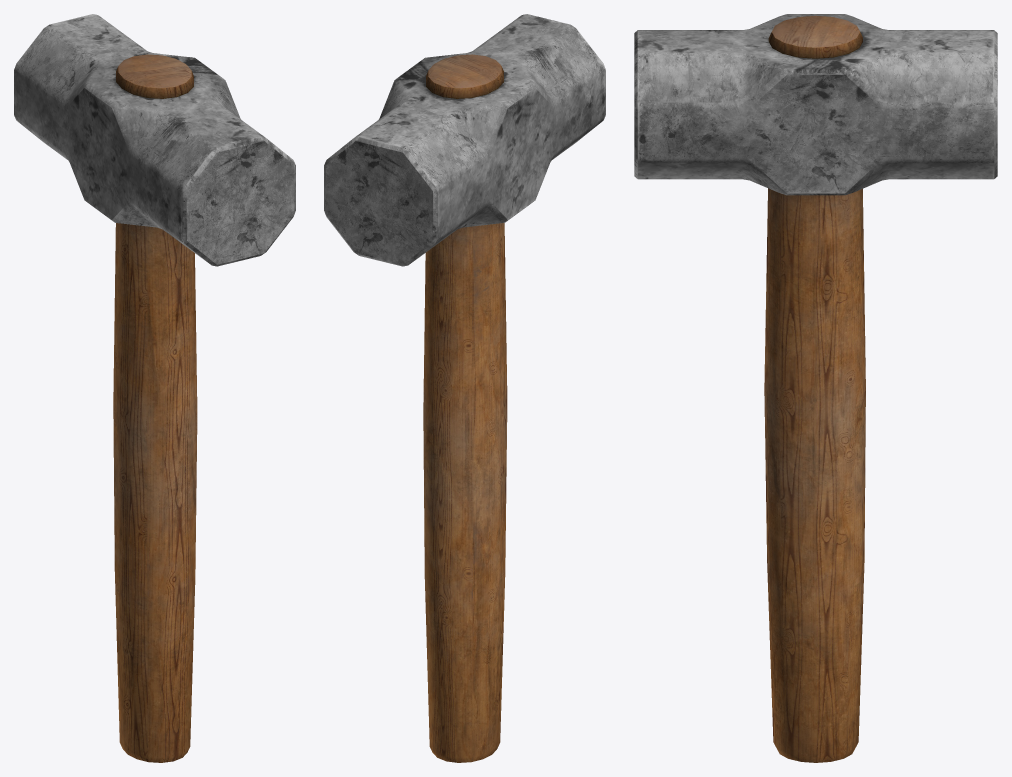
File: SLEDEG HAMMER FINAL.fbx
The picture shows the model from 3 angles, left to right: view 1: azimuth 30°, elevation 25°; view 2: azimuth 150°, elevation 25°; view 3: azimuth 270°, elevation 25°; orthographic projection. The views are drawn at different scales.
Parts seen in each view (by area): view 1: Cylinder; view 2: Cylinder; view 3: Cylinder.
Boxes of the visible parts, left/top/right/bottom form: Cylinder: left=14, top=14, right=295, bottom=762; Cylinder: left=324, top=14, right=605, bottom=762; Cylinder: left=634, top=14, right=997, bottom=762.
Size of the model in its own units: 200 by 1147 by 522.
2 materials, 2 textured.
